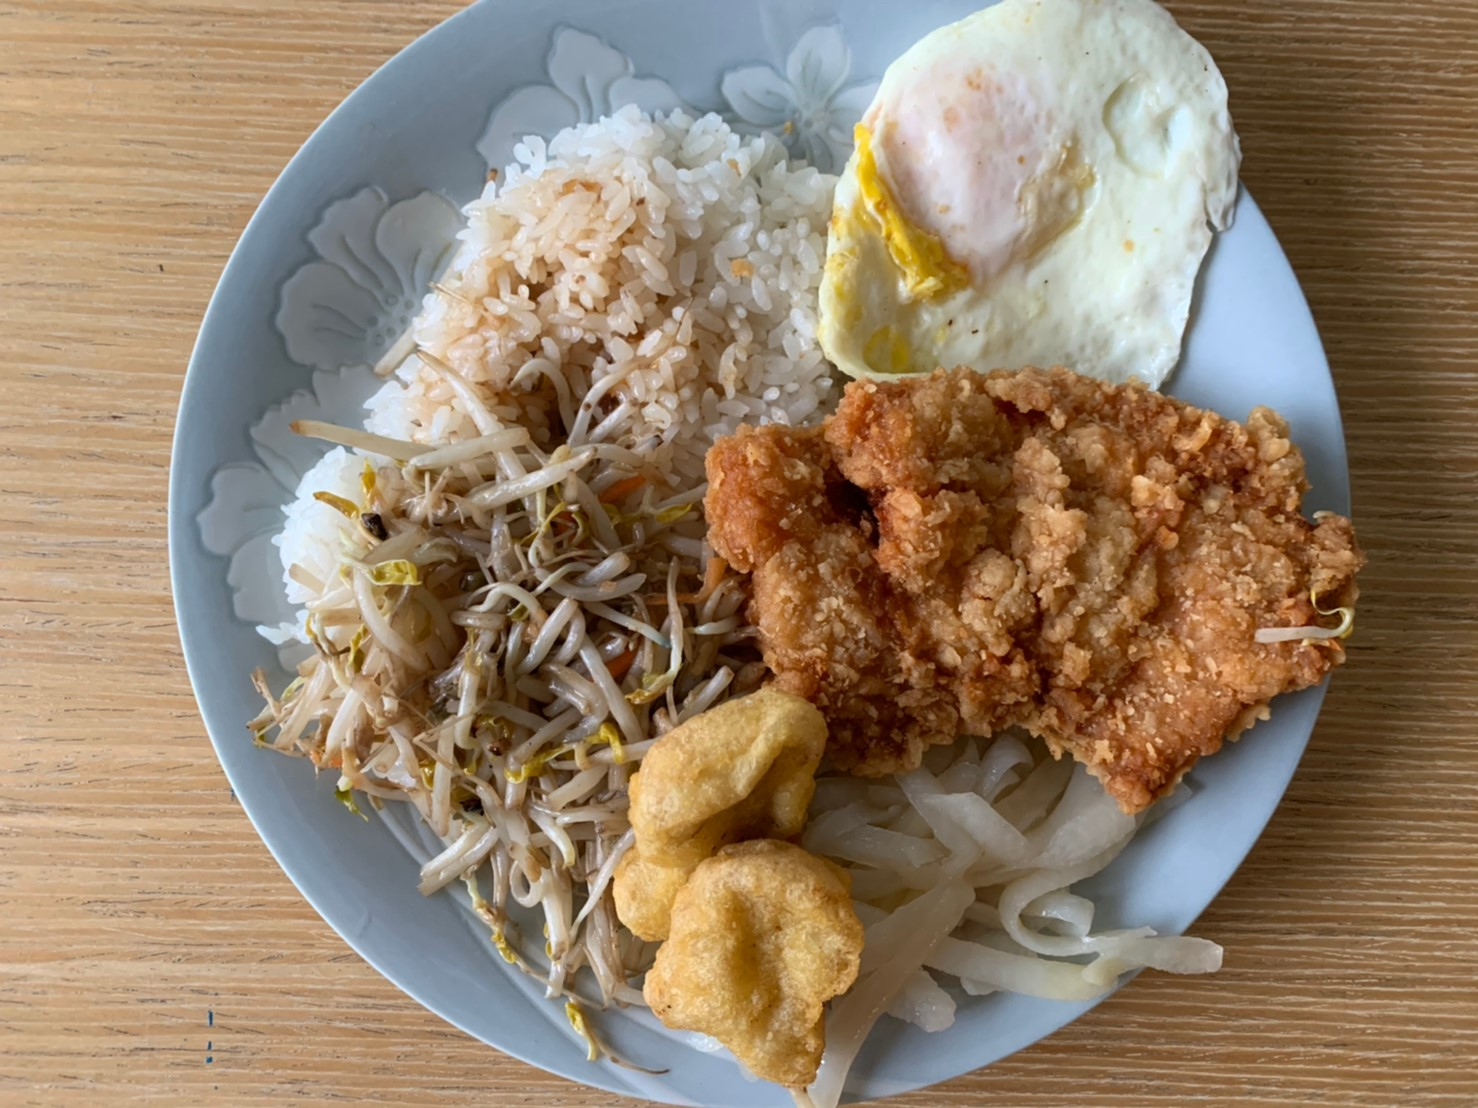chicken_nuggets: (626, 703, 850, 1049)
fried_chicken: (729, 376, 1357, 786)
fried_eggs: (848, 1, 1232, 375)
mung_bean_sprouts: (399, 441, 640, 940)
rice: (468, 141, 787, 427)
